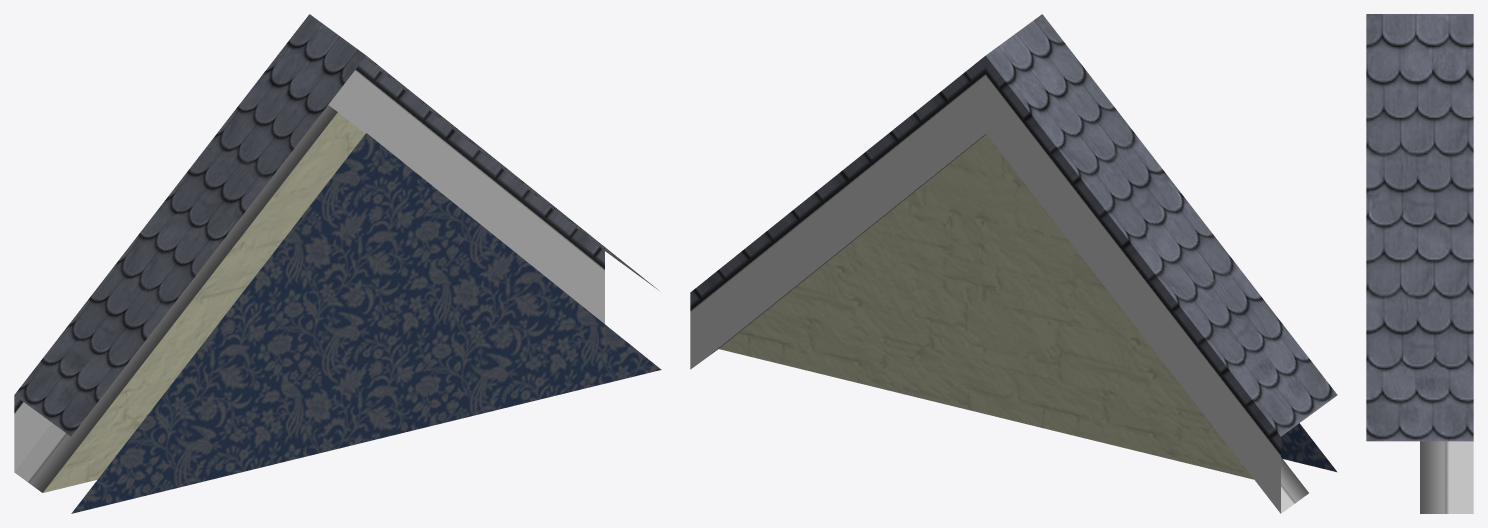
The model's file is wallRoofCentre.fbx.
The picture shows the model from 3 angles, left to right: view 1: azimuth 30°, elevation 25°; view 2: azimuth 150°, elevation 25°; view 3: azimuth 270°, elevation 25°; orthographic projection. The views are drawn at different scales.
Parts seen in each view (by area): view 1: wallRoofCentre, roofSaddleEnd; view 2: roofSaddleEnd, wallRoofCentre; view 3: roofSaddleEnd.
Part boxes in pixels (left/top/right/bottom): wallRoofCentre: left=43, top=112, right=661, bottom=513; roofSaddleEnd: left=14, top=14, right=657, bottom=492; roofSaddleEnd: left=690, top=14, right=1337, bottom=513; wallRoofCentre: left=719, top=134, right=1337, bottom=479; roofSaddleEnd: left=1366, top=14, right=1473, bottom=513.
Size of the model in its own units: 12 by 7.5 by 2.
2 materials, 2 textured.
